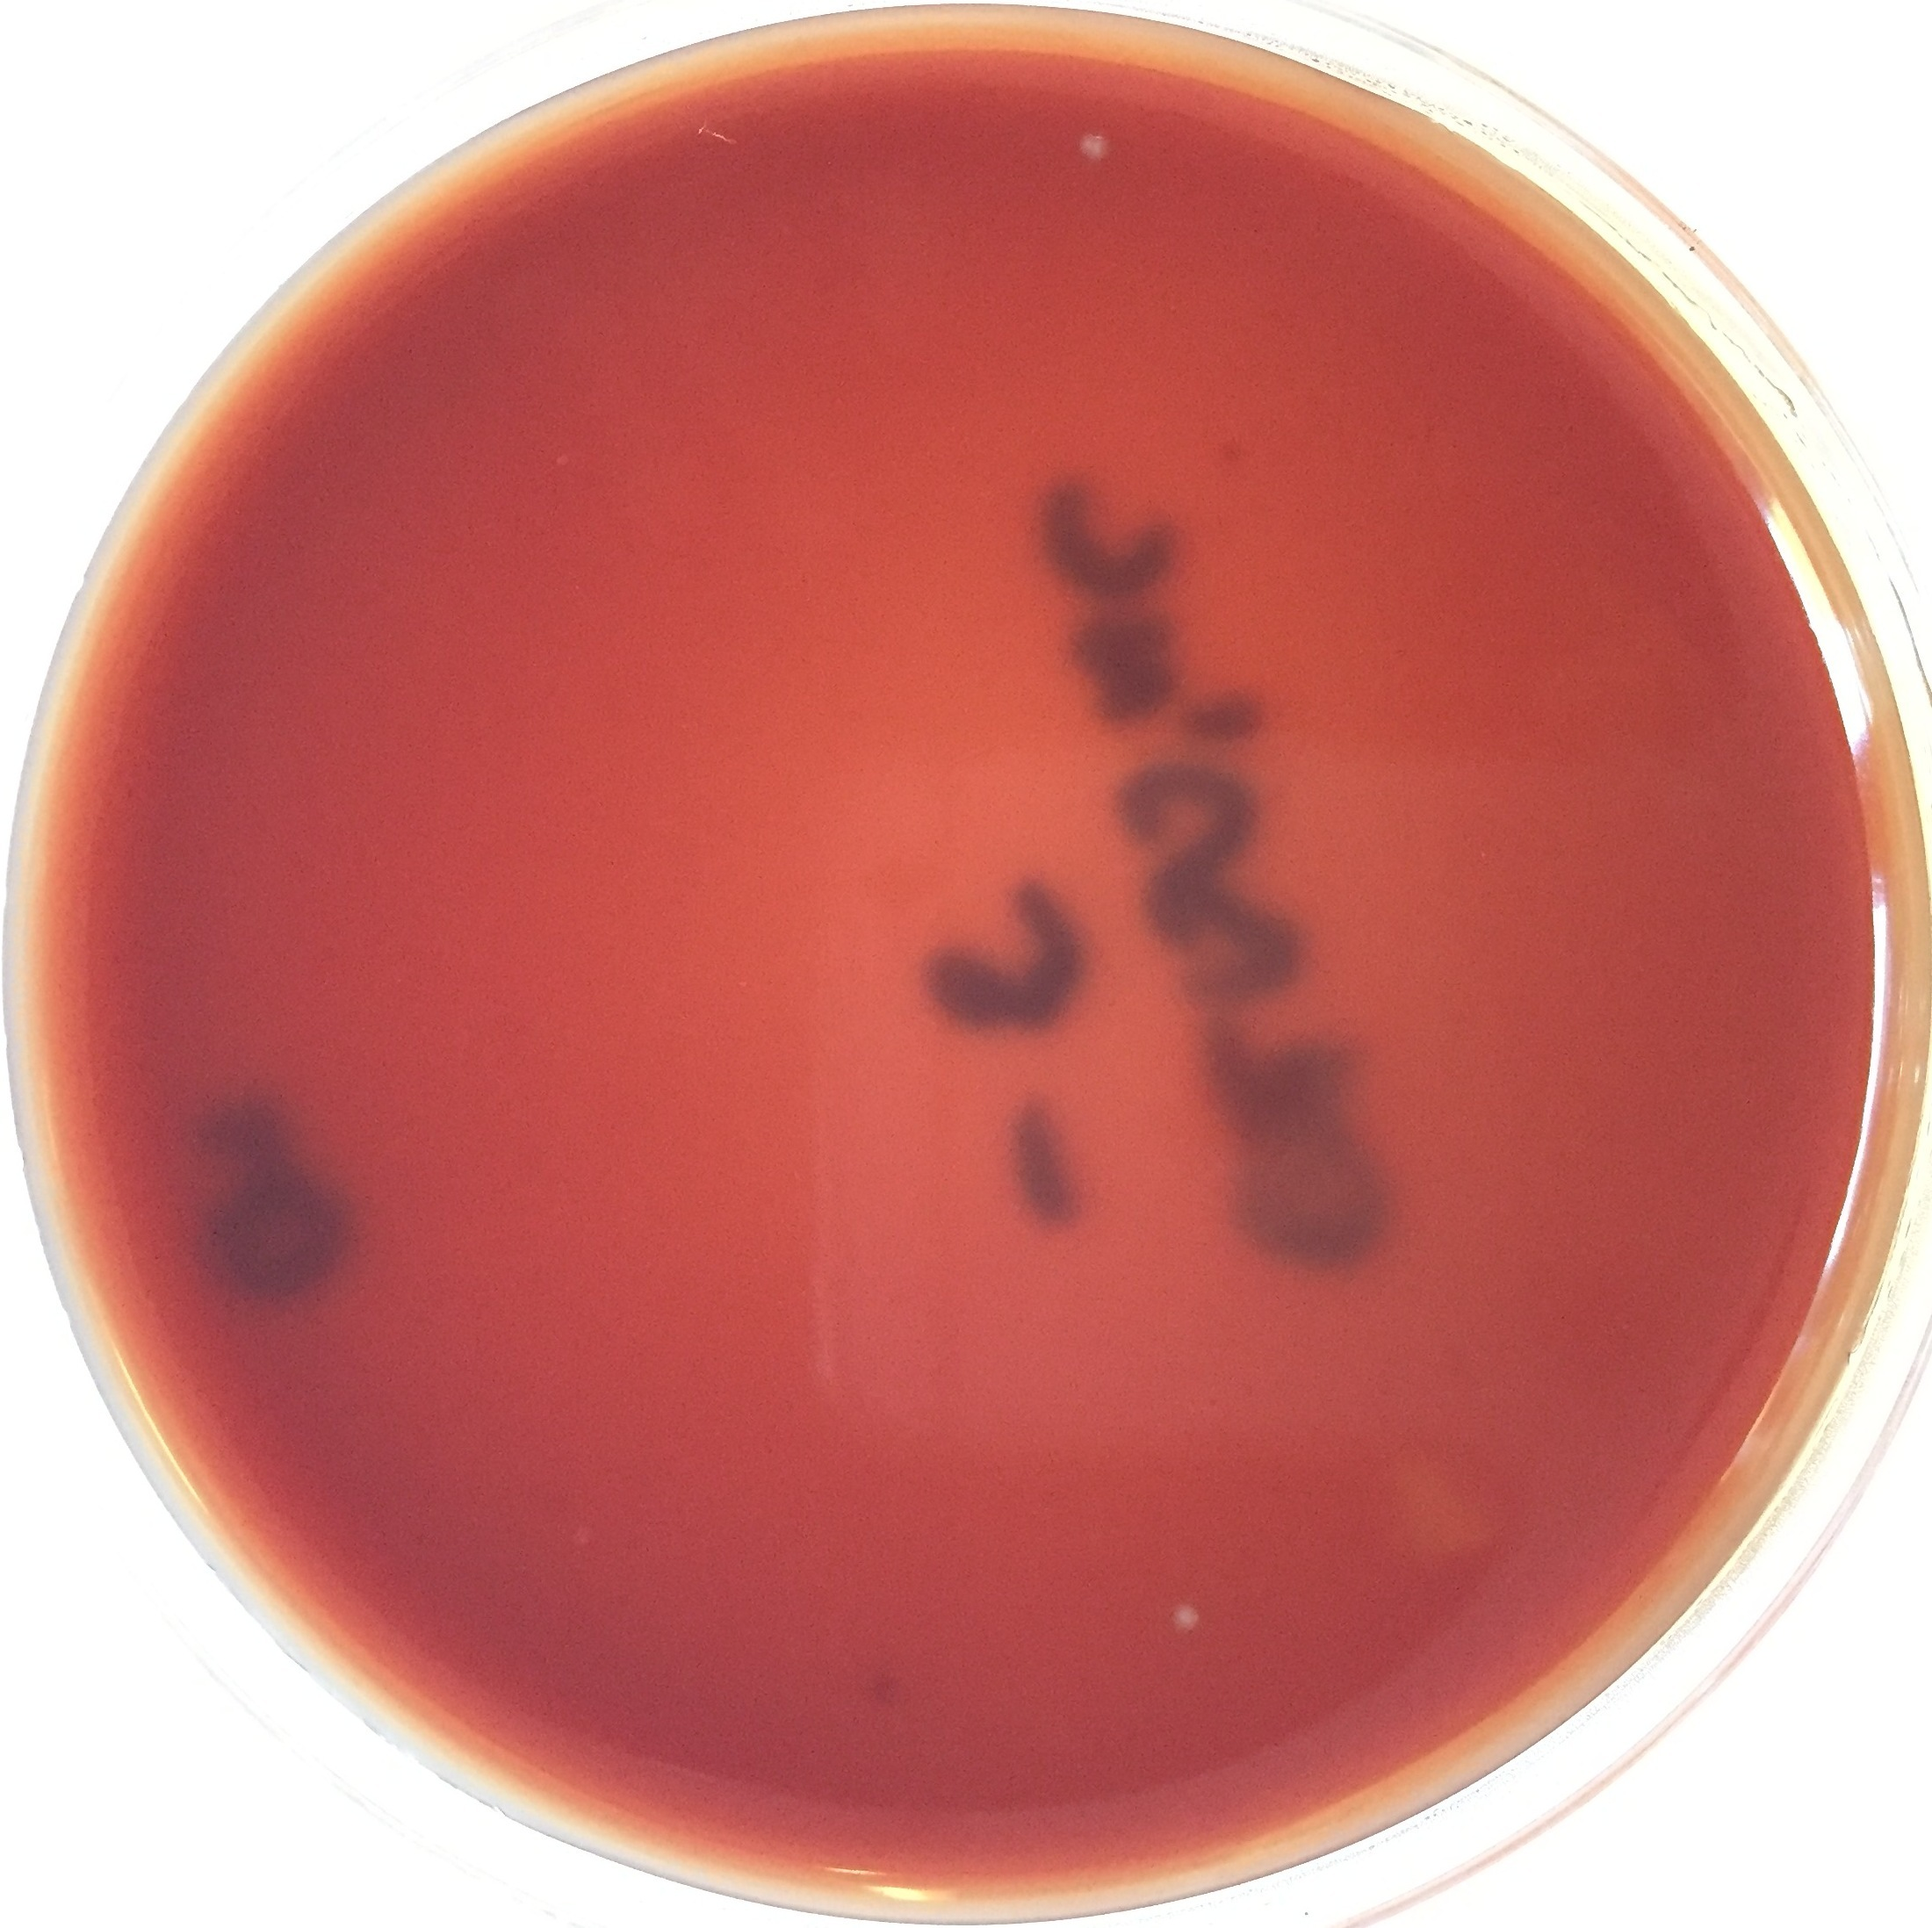sp06: (1068, 124, 1121, 173), (1164, 1601, 1215, 1644)
